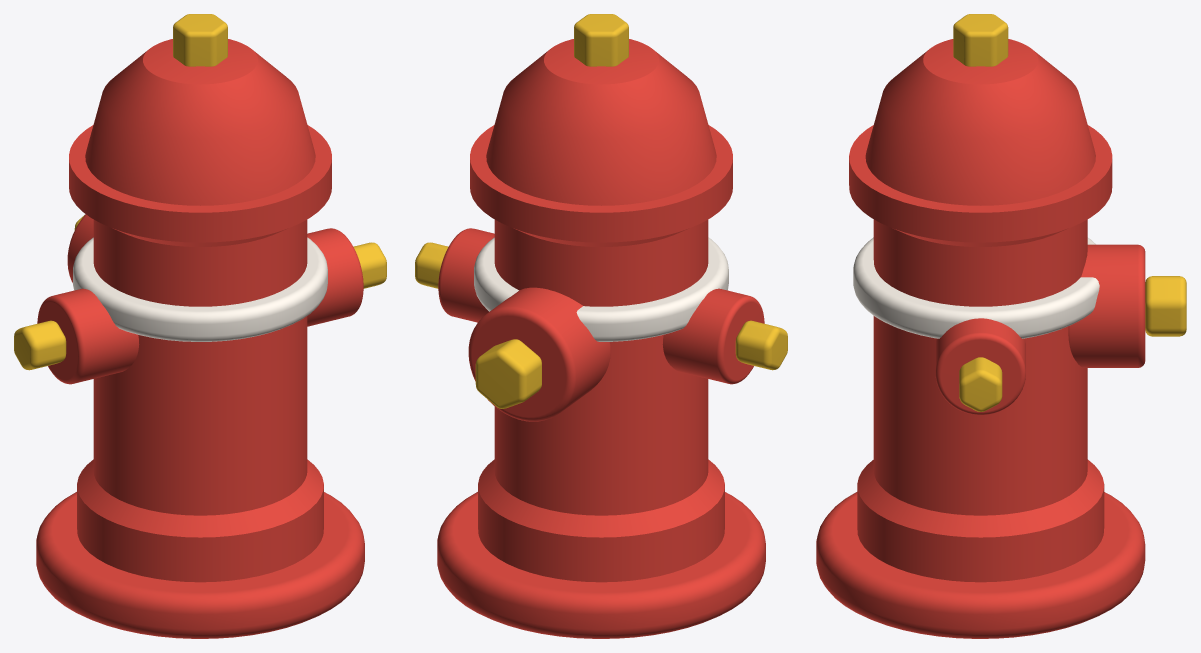
Rendered from hydrant.glb.
The picture shows the model from 3 angles, left to right: view 1: azimuth 30°, elevation 25°; view 2: azimuth 150°, elevation 25°; view 3: azimuth 270°, elevation 25°; orthographic projection.
Visible parts, largest first — view 1: hydrant; view 2: hydrant; view 3: hydrant.
Boxes of the visible parts, x1,y1,x2,y2 form: hydrant: (14,14,386,638); hydrant: (415,14,787,638); hydrant: (816,14,1186,638).
Bounding box in the file's own units: 0.5 × 0.74 × 0.4496.
Materials: 1 (1 with a texture image).
